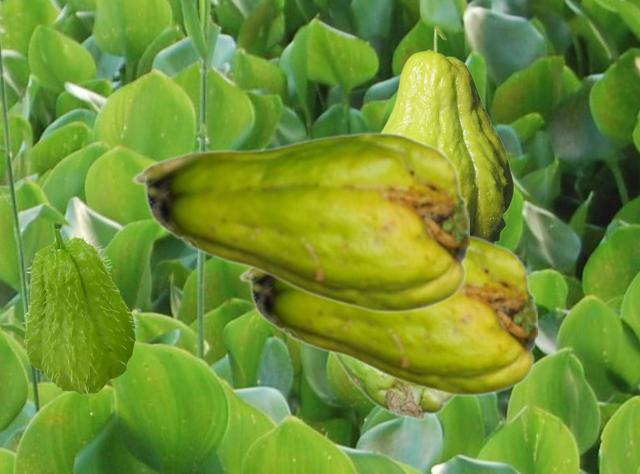sayote: (131, 131, 468, 313), (238, 234, 536, 396), (381, 25, 513, 242), (21, 226, 138, 394), (333, 355, 456, 420)
